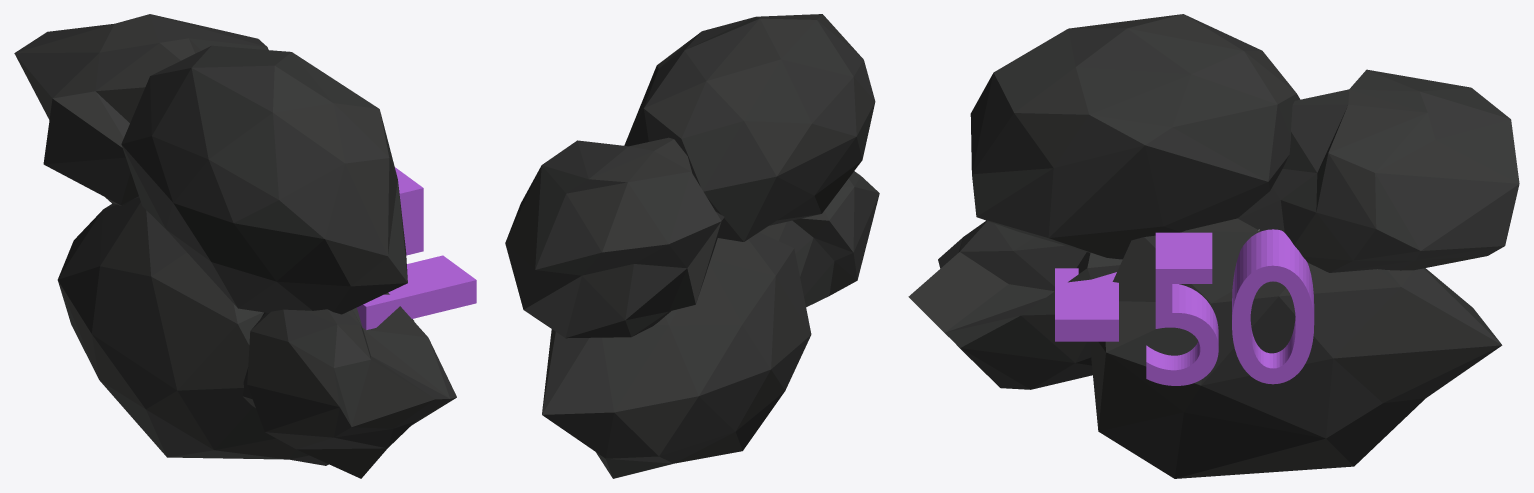
The picture shows the model from 3 angles, left to right: view 1: azimuth 30°, elevation 25°; view 2: azimuth 150°, elevation 25°; view 3: azimuth 270°, elevation 25°; orthographic projection. The views are drawn at different scales.
Parts seen in each view (by area): view 1: Icosphere.174, Text.062, Text.060; view 2: Icosphere.174; view 3: Icosphere.174, Text.041, Text.060, Text.062.
Boxes of the visible parts, <box> form: Icosphere.174: <box>14,14,456,478</box>; Text.062: <box>357,255,476,329</box>; Text.060: <box>395,167,423,255</box>; Icosphere.174: <box>505,14,879,478</box>; Icosphere.174: <box>908,14,1519,478</box>; Text.041: <box>1232,229,1314,384</box>; Text.060: <box>1146,232,1218,385</box>; Text.062: <box>1055,268,1118,341</box>.
Bounding box in the file's own units: 45.68 × 71.06 × 94.13.
